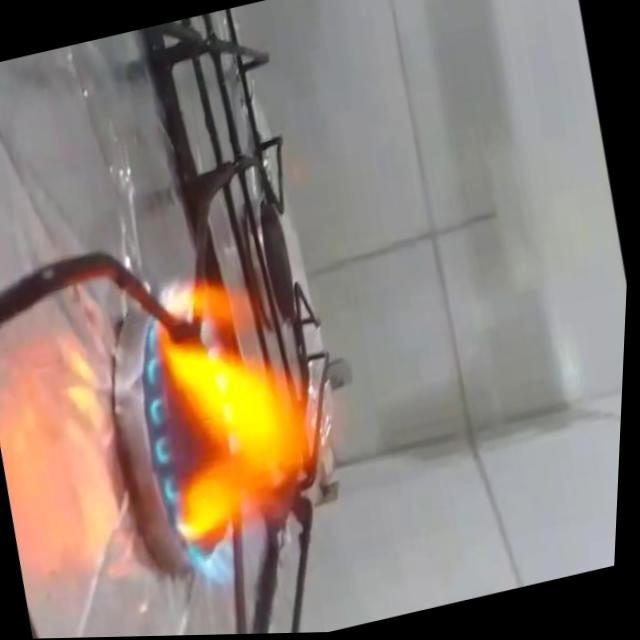fire: (114, 241, 394, 613)
